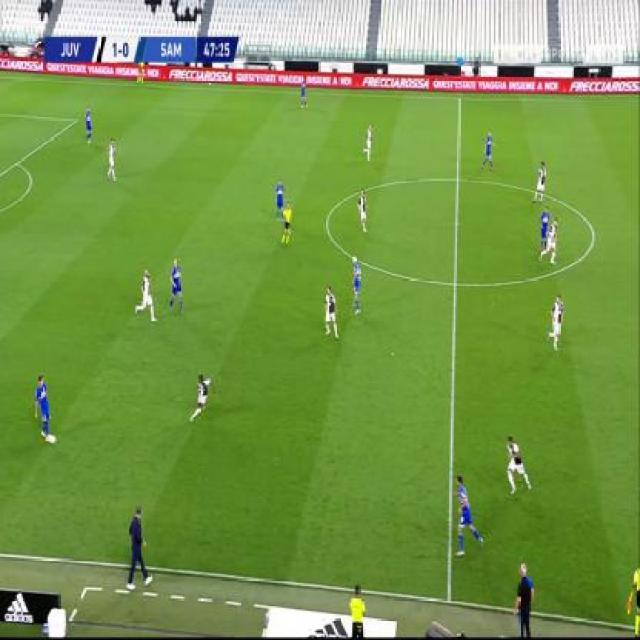ball: (47, 432, 56, 445)
player: (124, 500, 153, 596), (453, 472, 484, 557), (512, 560, 537, 639), (503, 434, 532, 496), (33, 371, 55, 444), (189, 371, 215, 425), (134, 266, 157, 323), (348, 578, 367, 637), (322, 283, 341, 340), (548, 291, 565, 353), (168, 255, 184, 317), (627, 559, 640, 635), (543, 214, 560, 265), (350, 253, 363, 316), (538, 205, 551, 258), (480, 129, 496, 172), (533, 159, 547, 205), (356, 187, 370, 233), (281, 200, 294, 248), (105, 136, 118, 182), (361, 122, 374, 161), (274, 177, 285, 220), (83, 104, 94, 144), (298, 76, 309, 109), (137, 59, 146, 84)
